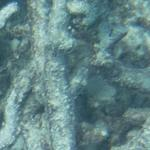dead: (6, 2, 148, 147)
